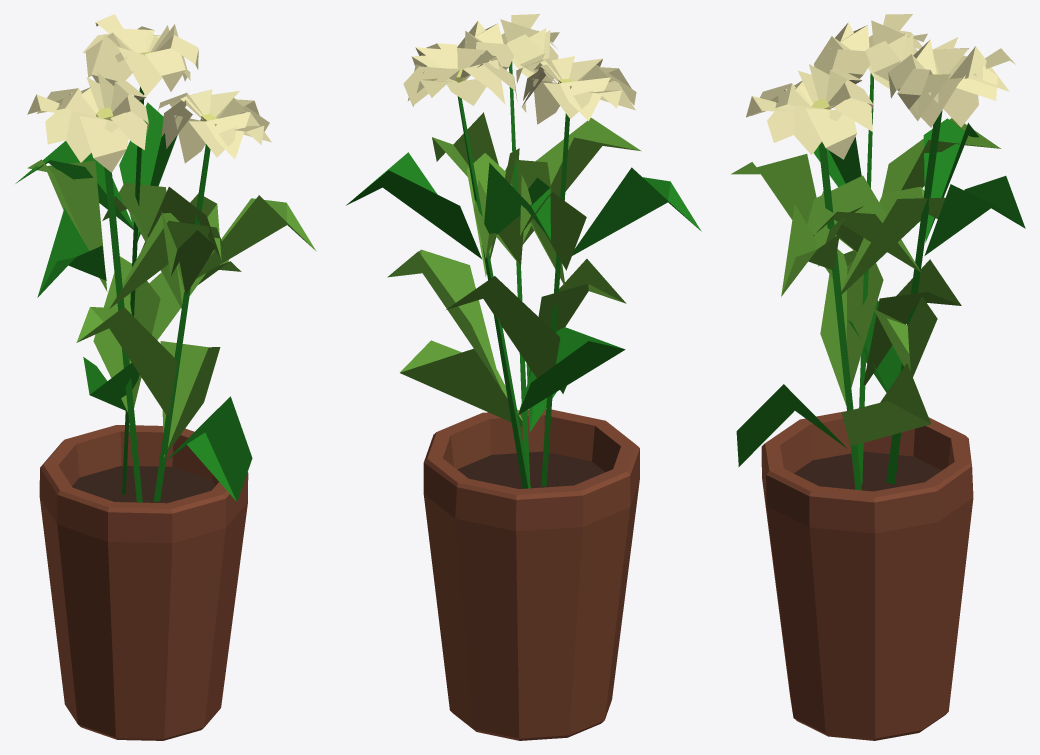
The model's file is tanaman hias 3.fbx.
The picture shows the model from 3 angles, left to right: view 1: azimuth 30°, elevation 25°; view 2: azimuth 150°, elevation 25°; view 3: azimuth 270°, elevation 25°; orthographic projection. The views are drawn at different scales.
Parts seen in each view (by area): view 1: jasmine.010, flowerpot.009; view 2: flowerpot.009, jasmine.010; view 3: jasmine.010, flowerpot.009.
Part boxes in pixels (x1,y1,x2,y2): jasmine.010: (15, 14, 316, 502); flowerpot.009: (39, 425, 248, 740); flowerpot.009: (423, 409, 639, 740); jasmine.010: (346, 14, 701, 488); jasmine.010: (731, 14, 1025, 490); flowerpot.009: (761, 411, 973, 740).
Size of the model in its own units: 247 by 573 by 227.
